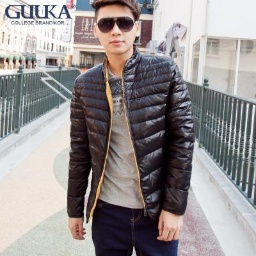face: (90, 1, 142, 56)
